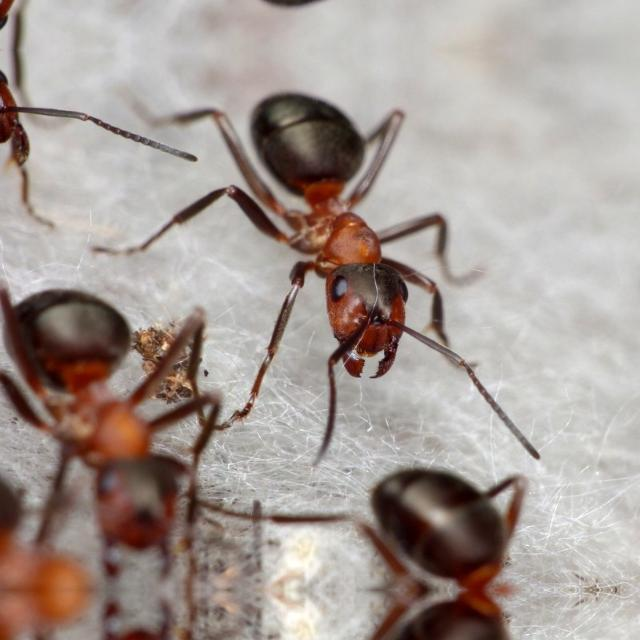Formica: (162, 51, 512, 396), (22, 262, 226, 570), (302, 419, 570, 589), (302, 590, 570, 640), (0, 76, 118, 188), (0, 0, 118, 22)
